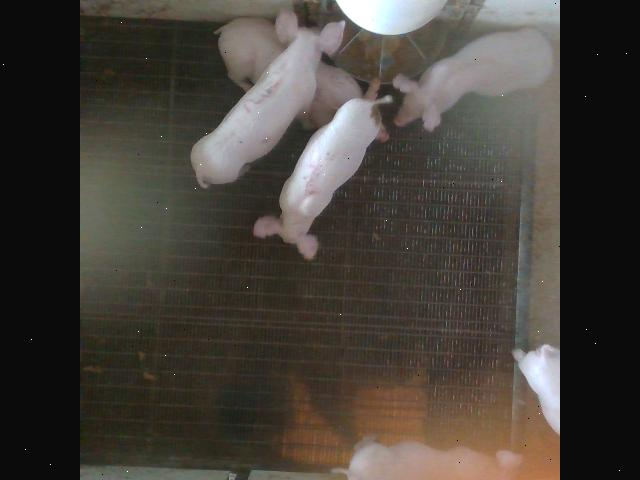pig-3: (191, 10, 344, 186)
pig-4: (335, 436, 522, 480)
pig-5: (254, 98, 389, 258)
